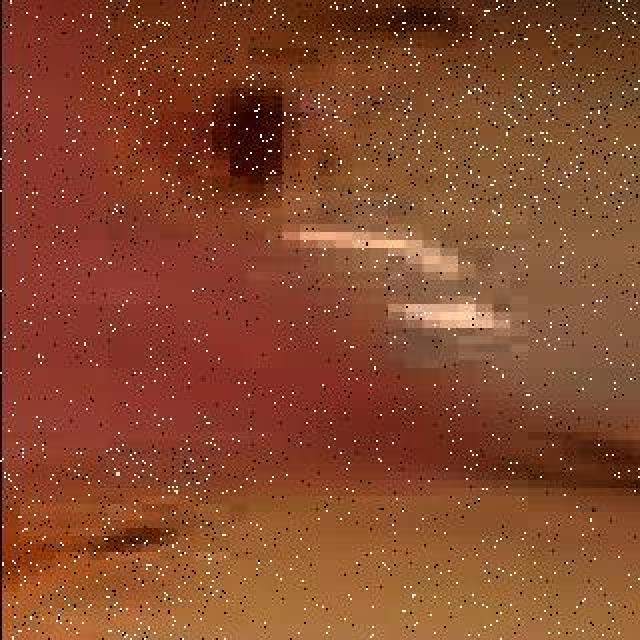calculus: (414, 366, 640, 586)
cavities: (105, 6, 435, 306)
